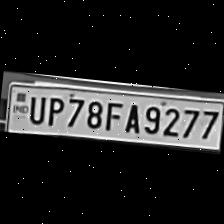2: (160, 102, 181, 138)
7: (62, 94, 84, 128), (196, 106, 218, 140), (178, 104, 199, 138)
8: (82, 95, 106, 129)
9: (140, 100, 162, 134)
A: (120, 99, 142, 133)
F: (102, 97, 124, 131)
P: (43, 92, 65, 128)
U: (25, 92, 47, 124)
